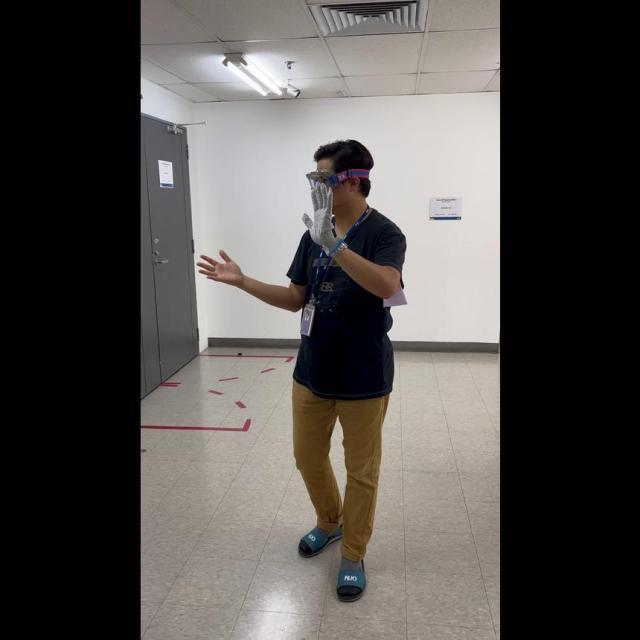bare_hand: (196, 245, 243, 285)
gloved_hand: (298, 177, 345, 254)
